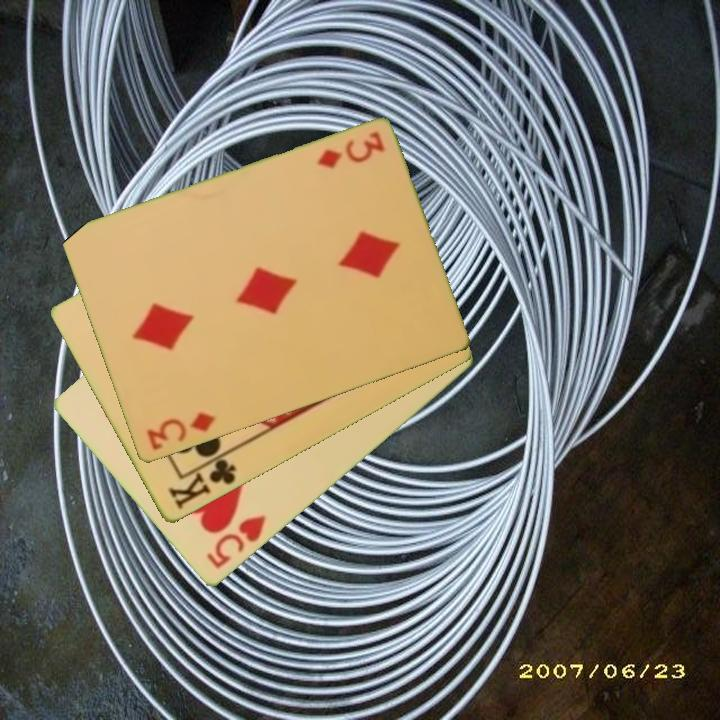3d: (143, 409, 218, 454), (314, 128, 387, 173)
5h: (203, 512, 269, 573)
Kc: (164, 449, 239, 513)
